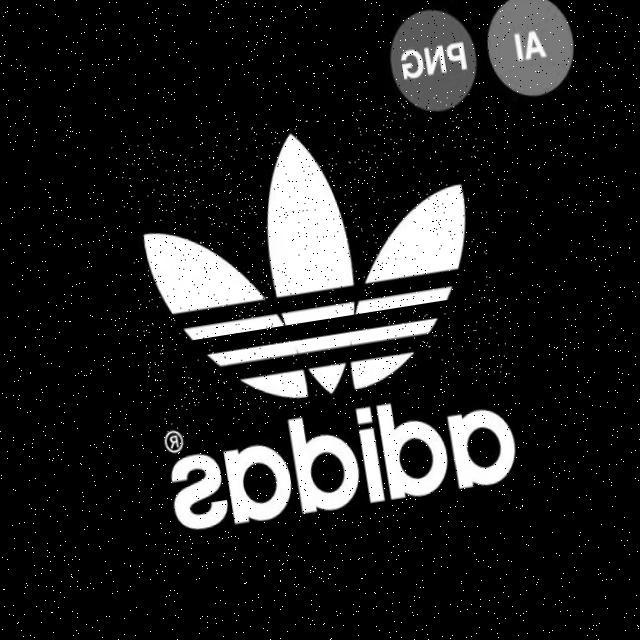Adidas: (112, 91, 517, 434)
